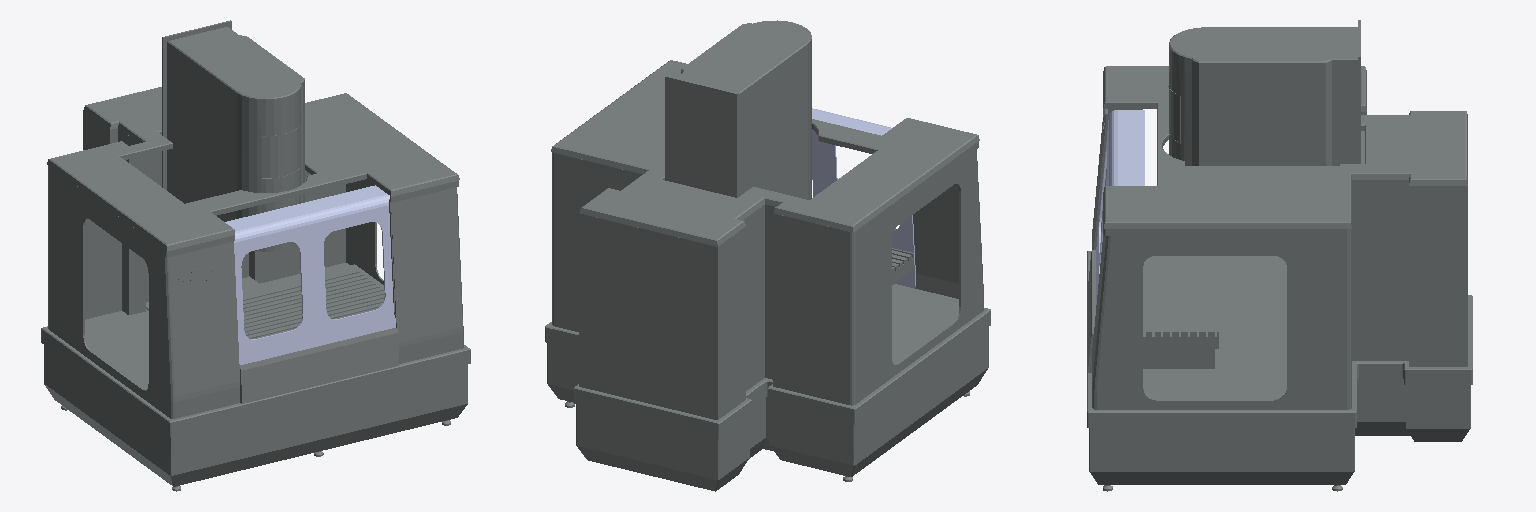
URDF robot description (HAAS_VF2):
<?xml version="1.0" encoding="utf-8"?>
<!-- This URDF was automatically created by SolidWorks to URDF Exporter! Originally created by [author] ([email redacted]) 
     Commit Version: 1.5.1-0-g916b5db  Build Version: 1.5.7152.31018
     For more information, please see http://wiki.ros.org/sw_urdf_exporter -->
<!-- 180 3.1415926535 -->
<!-- 30 0.523598776 -->
<!-- 15 0.261799388 -->


<robot
  name="HAAS_VF2">
  <link
    name="HAAS_VF2_base">
    <inertial>
      <origin
        xyz="0 1 0"
        rpy="0 0.261799388 0" />
      <mass
        value="14879" />
      <inertia
        ixx="2964.3"
        ixy="1.7344"
        ixz="-27.292"
        iyy="4409.9"
        iyz="-1.747"
        izz="3079.7" />
    </inertial>
    <visual>
      <origin
        xyz="0 0 0"
        rpy="0 0 0" />
      <geometry>
        <mesh
          filename="package://infi_sim_v1/models/HAAS_VF2/meshes/CNC_VF2_base.STL" />
      </geometry>
      <material
        name="">
        <color
          rgba="0.52941 0.54902 0.54902 1" />
      </material>
    </visual>
    <collision>
      <origin
        xyz="0 0 0"
        rpy="0 0 0" />
      <geometry>
        <mesh
			filename="package://infi_sim_v1/models/HAAS_VF2/meshes/CNC_VF2_base.STL" />
			<!-- <box size="2 3 0.5"/> -->
      </geometry>
    </collision>
  </link>
  <link
    name="Door_left">
    <inertial>
      <origin
        xyz="-0.285 0.58552 -0.080585"
        rpy="0 0 0" />
      <mass
        value="5.2116" />
      <inertia
        ixx="0.80899"
        ixy="0"
        ixz="0"
        iyy="0.20392"
        iyz="0.12453"
        izz="0.95521" />
    </inertial>
    <visual>
      <origin
        xyz="0 0 0"
        rpy="0 0 0" />
      <geometry>
        <mesh
			filename="package://infi_sim_v1/models/HAAS_VF2/meshes/Door_left.STL" />
      </geometry>
      <material
        name="">
        <color
          rgba="0.79216 0.81961 0.93333 1" />
      </material>
    </visual>
    <collision>
      <origin
        xyz="0 0 0"
        rpy="0 0 0" />
      <geometry>
        <mesh
          filename="package://HAAS_VF2/meshes/Door_left.STL" />
      </geometry>
    </collision>
  </link>
  <joint
    name="door_left"
    type="prismatic">
    <origin
      xyz="0 0.033372 0.5001"
      rpy="1.5708 0 0" />
    <parent
      link="HAAS_VF2_base" />
    <child
      link="Door_left" />
    <axis
      xyz="1 0 0" />
    <limit
      lower="0"
      upper="0"
      effort="0"
      velocity="0" />
  </joint>
  <link
    name="Door_right">
    <inertial>
      <origin
        xyz="0.285 0.58552 -0.080585"
        rpy="0 0 0" />
      <mass
        value="5.2116" />
      <inertia
        ixx="0.80899"
        ixy="0"
        ixz="0"
        iyy="0.20392"
        iyz="0.12453"
        izz="0.95521" />
    </inertial>
    <visual>
      <origin
        xyz="0 0 0"
        rpy="0 0 0" />
      <geometry>
        <mesh
        filename="package://infi_sim_v1/models/HAAS_VF2/meshes/Door_right.STL" />
      </geometry>
      <material
        name="">
        <color
          rgba="0.79216 0.81961 0.93333 1" />
      </material>
    </visual>
    <collision>
      <origin
        xyz="0 0 0"
        rpy="0 0 0" />
      <geometry>
        <mesh
        filename="package://infi_sim_v1/models/HAAS_VF2/meshes/Door_right.STL" />
      </geometry>
    </collision>
  </link>
  <joint
    name="door_right"
    type="prismatic">
    <origin
      xyz="0 0.033372 0.5001"
      rpy="1.5708 0 0" />
    <parent
      link="HAAS_VF2_base" />
    <child
      link="Door_right" />
    <axis
      xyz="1 0 0" />
    <limit
      lower="0"
      upper="0"
      effort="0"
      velocity="0" />
  </joint>
</robot>

--- Facts derived from the render (not from the file) ---
Views: 3 orthographic renders of the robot side by side, from view 1: azimuth 30°, elevation 25°; view 2: azimuth 150°, elevation 25°; view 3: azimuth 270°, elevation 25°.
Robot: HAAS_VF2 — 3 links, 2 joints (2 prismatic); root link HAAS_VF2_base; default pose: every joint at zero.
Links seen in each view (by area): view 1: HAAS_VF2_base, Door_right, Door_left; view 2: HAAS_VF2_base, Door_left, Door_right; view 3: HAAS_VF2_base, Door_left, Door_right.
Boxes of the visible links, x1,y1,x2,y2 form: HAAS_VF2_base: (41, 20, 470, 491); Door_right: (295, 185, 395, 346); Door_left: (225, 205, 316, 364); HAAS_VF2_base: (545, 20, 990, 491); Door_left: (812, 110, 915, 288); Door_right: (812, 108, 824, 196); HAAS_VF2_base: (1087, 20, 1472, 491); Door_left: (1096, 110, 1144, 290); Door_right: (1096, 154, 1144, 304).
Bounding box of the posed robot: 2.09 × 2.11 × 2.28 m (x, y, z).
Meshes: 3 distinct files referenced, 3 mesh visuals loaded (3 binary STL).
